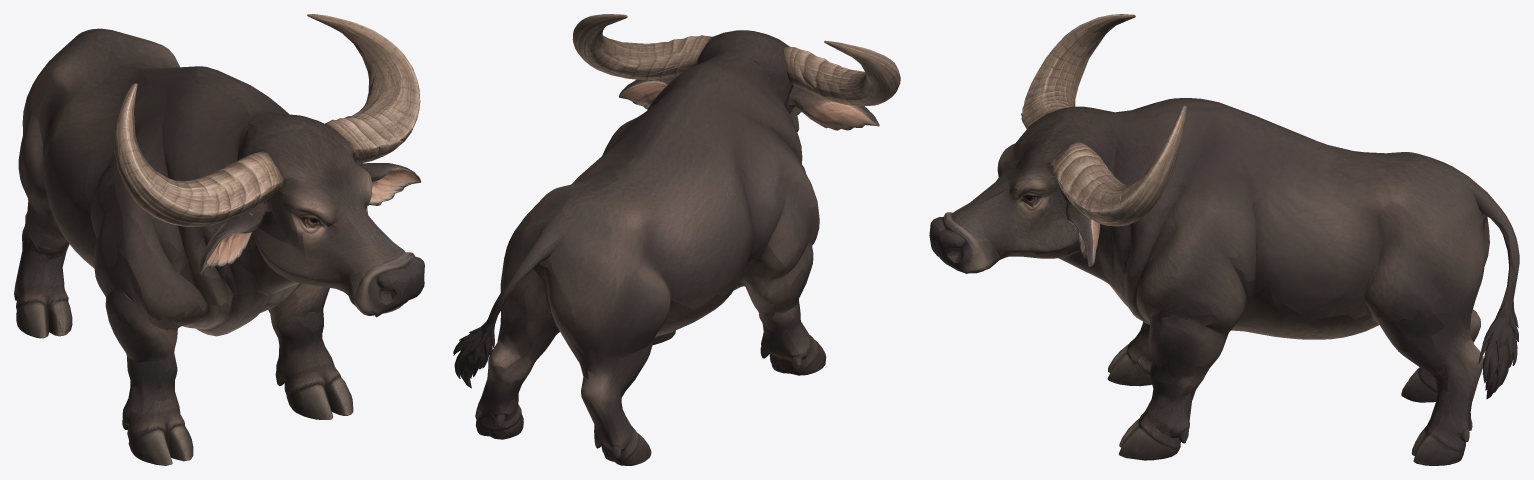
The model's file is buffalo.glb.
3 renders of one model, left to right at view 1: azimuth 30°, elevation 25°; view 2: azimuth 150°, elevation 25°; view 3: azimuth 270°, elevation 25°, orthographic. The views are drawn at different scales.
Bounding box in the file's own units: 1.17 × 1.27 × 1.95.
1 material, 1 textured.
